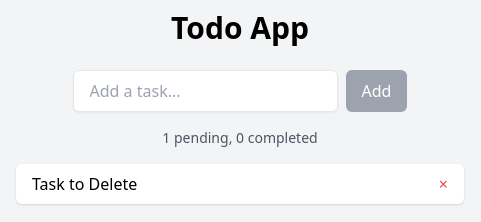
Scenario: App Component › allows deleting a todo
The image size is (481, 222).
Check: the text "Task to Delete" is shown, box [32, 172, 137, 196]
// Find and click delete button
What coordinates should you click on to do the following:
click the button "×"
I would click on:
 (443, 184)
Its box is [439, 172, 448, 196].
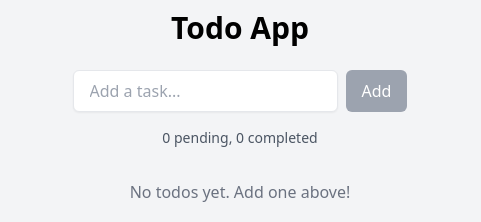
Check: the text "Task to Delete" is gone
